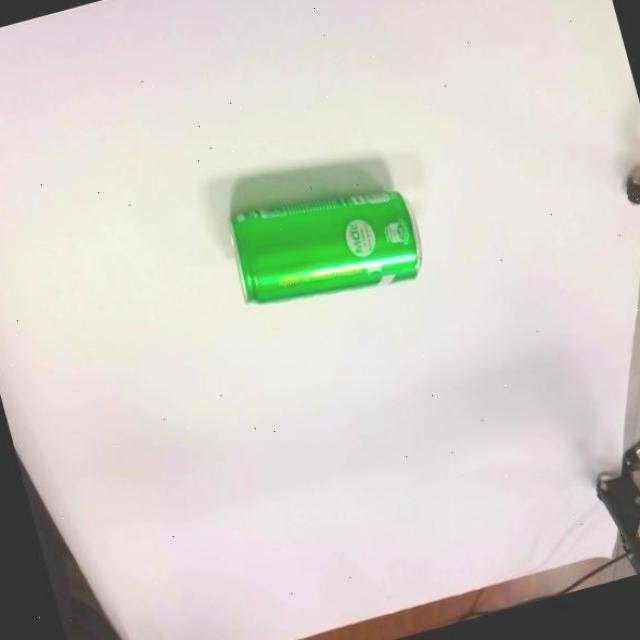debris: (210, 135, 430, 323)
